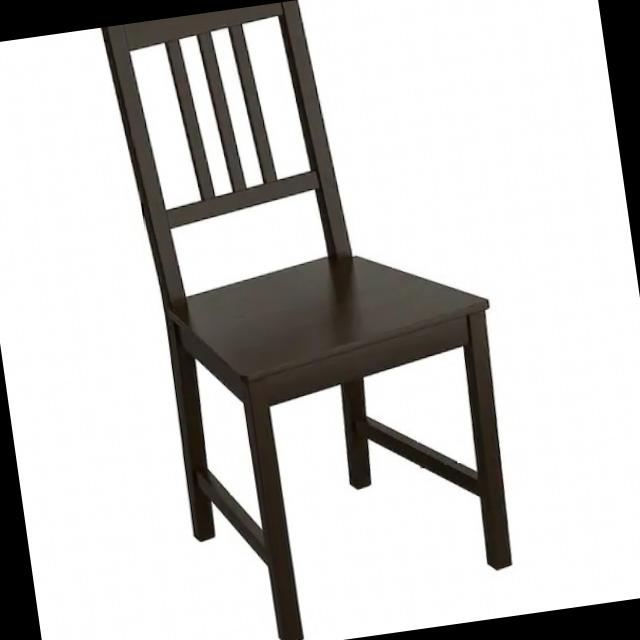Chair: (91, 0, 536, 640)
